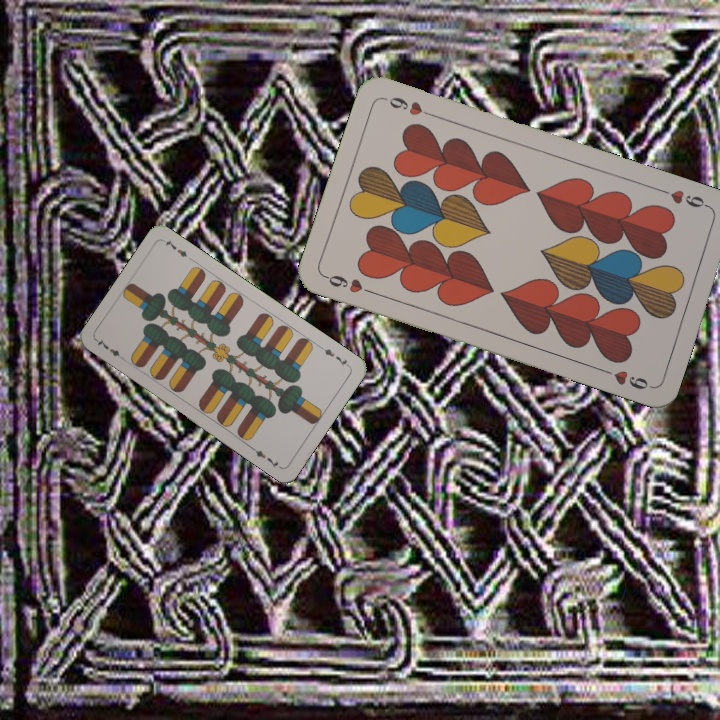E7: (93, 334, 128, 364), (316, 342, 352, 369)
H9: (321, 271, 378, 298), (656, 184, 713, 211)
